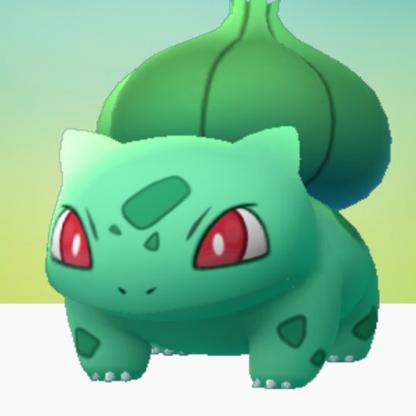Bulbasaur: (40, 2, 403, 408)
